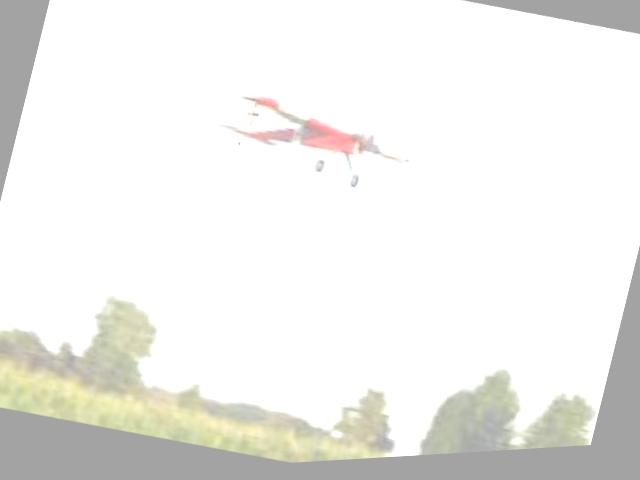uav: (201, 74, 422, 211)
